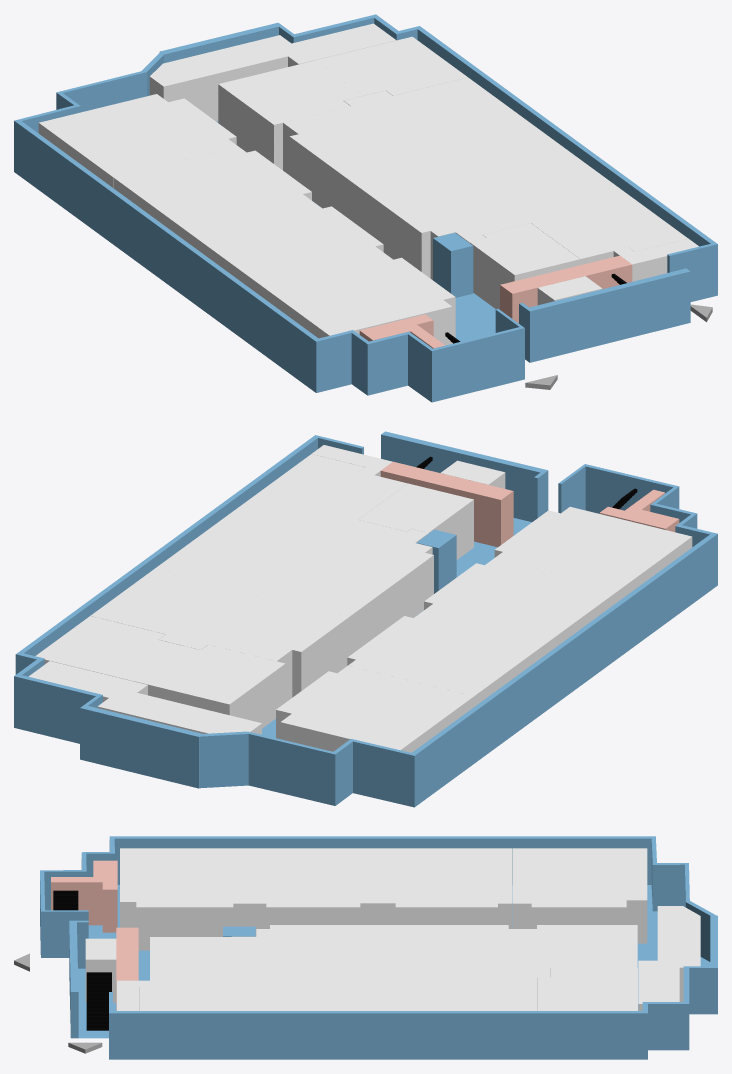
3 views of the same model, one above another, from view 1: azimuth 30°, elevation 25°; view 2: azimuth 150°, elevation 25°; view 3: azimuth 270°, elevation 25° (orthographic). The views are drawn at different scales.
Parts seen in each view (by area): view 1: object, 体育実験実習室, 社会体育研究室, 511, 自然科学実験室2, 自然科学実験室1, 生理実験室, 体育研究室, 生命科学実験室1, 体力測定室, 更衣室, 電気室 (+7 smaller); view 2: object, 体育実験実習室, 社会体育研究室, 自然科学実験室2, 自然科学実験室1, 511, 生理実験室, 体育研究室, 生命科学実験室1, 体力測定室, 更衣室, 電気室 (+7 smaller); view 3: object, 体育実験実習室, 511, 自然科学実験室2, 自然科学実験室1, 社会体育研究室, 生命科学実験室1, 体育研究室, 体力測定室, 生理実験室, 生命科学実験室2, 電気室 (+9 smaller).
Part boxes in pixels (box(x1,y1,x2,y2)): object: box(14, 14, 717, 402); 体育実験実習室: box(336, 123, 632, 279); 社会体育研究室: box(283, 77, 530, 209); 511: box(259, 253, 455, 345); 自然科学実験室2: box(113, 146, 312, 242); 自然科学実験室1: box(188, 202, 384, 294); 生理実験室: box(218, 60, 362, 170); 体育研究室: box(149, 23, 396, 121); 生命科学実験室1: box(76, 117, 238, 187); 体力測定室: box(315, 36, 467, 95); 更衣室: box(469, 223, 580, 309); 電気室: box(554, 198, 687, 259); object: box(14, 431, 717, 807); 体育実験実習室: box(153, 495, 433, 656); 社会体育研究室: box(90, 570, 348, 702); 自然科学実験室2: box(347, 610, 549, 706); 自然科学実験室1: box(424, 558, 620, 651); 511: box(494, 506, 692, 599); 生理実験室: box(133, 644, 285, 728); 体育研究室: box(29, 661, 261, 734); 生命科学実験室1: box(302, 665, 473, 733); 体力測定室: box(35, 616, 180, 680); 更衣室: box(358, 483, 473, 559); 電気室: box(256, 454, 383, 513); object: box(40, 836, 717, 1059); 体育実験実習室: box(231, 925, 424, 1010); 511: box(120, 848, 248, 950); 自然科学実験室2: box(377, 848, 512, 928); 自然科学実験室1: box(248, 848, 376, 936); 社会体育研究室: box(424, 925, 550, 1010); 生命科学実験室1: box(513, 848, 580, 928); 体育研究室: box(638, 906, 700, 1010); 体力測定室: box(537, 967, 637, 1010); 生理実験室: box(537, 925, 637, 977); 生命科学実験室2: box(580, 877, 647, 943); 電気室: box(139, 976, 239, 1010).
Bounding box in the file's own units: 1.57 × 0.2011 × 2.64.
